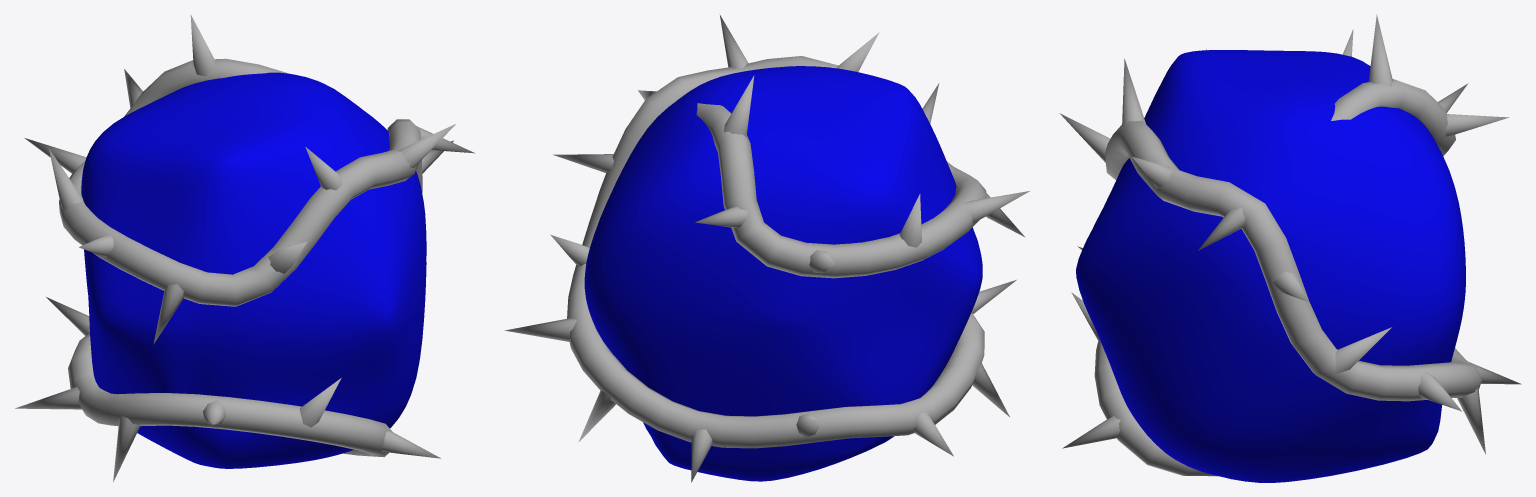
File: Stone4Vined.fbx
The picture shows the model from 3 angles, left to right: view 1: azimuth 30°, elevation 25°; view 2: azimuth 150°, elevation 25°; view 3: azimuth 270°, elevation 25°; orthographic projection. The views are drawn at different scales.
Parts seen in each view (by area): view 1: Stone4Vined; view 2: Stone4Vined; view 3: Stone4Vined.
Boxes of the visible parts, <box> form: Stone4Vined: <box>15,14,474,482</box>; Stone4Vined: <box>504,14,1029,482</box>; Stone4Vined: <box>1059,14,1521,482</box>.
Size of the model in its own units: 119 by 107 by 106.
